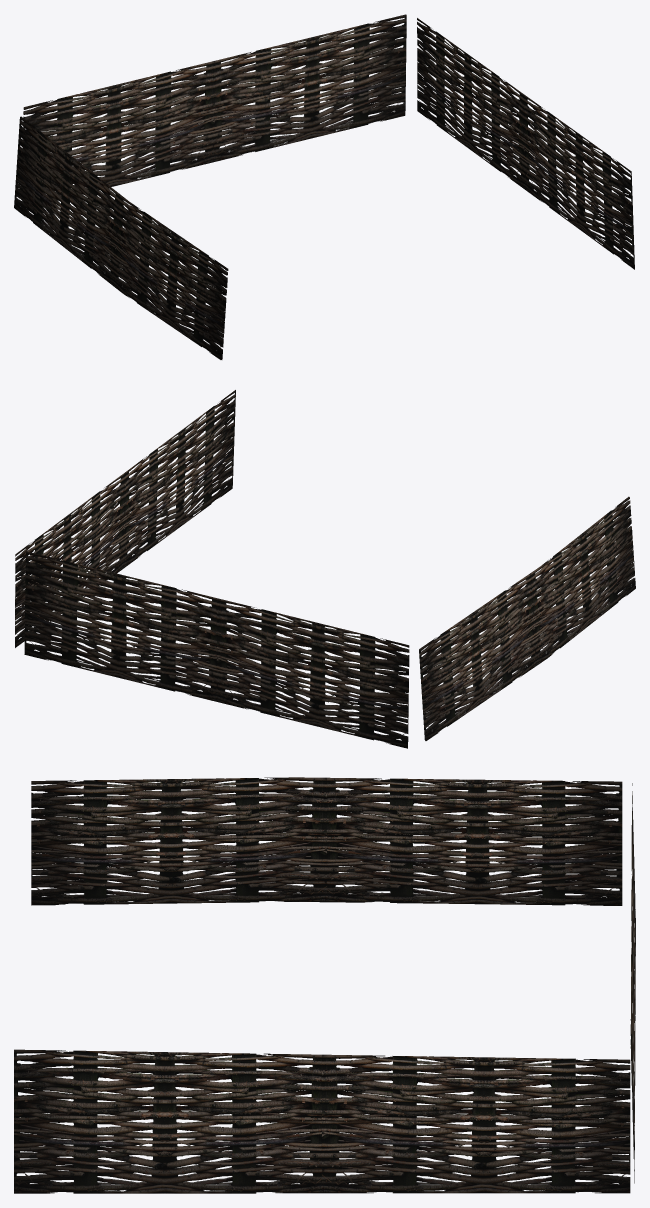
File: WickerWoodSmallHouse01.FBX
3 views of the same model, one above another, from view 1: azimuth 30°, elevation 25°; view 2: azimuth 150°, elevation 25°; view 3: azimuth 270°, elevation 25° (orthographic). The views are drawn at different scales.
Parts seen in each view (by area): view 1: WickedWood_SmallHouse; view 2: WickedWood_SmallHouse; view 3: WickedWood_SmallHouse.
Part boxes in pixels (x1=…): WickedWood_SmallHouse: x1=14, y1=14, x2=634, y2=359; WickedWood_SmallHouse: x1=15, y1=390, x2=635, y2=748; WickedWood_SmallHouse: x1=14, y1=777, x2=635, y2=1193.
Size of the model in its own units: 3.35 by 0.7899 by 3.08.
